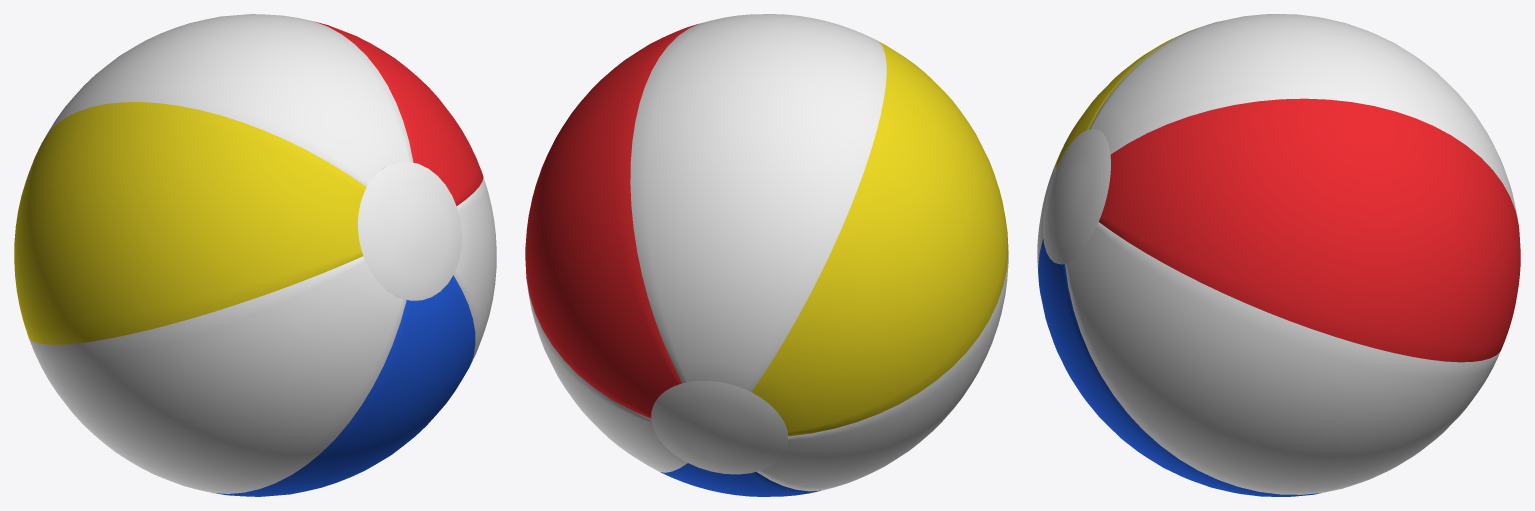
Rendered from DM_beach_ball.fbx.
3 renders of one model, left to right at view 1: azimuth 30°, elevation 25°; view 2: azimuth 150°, elevation 25°; view 3: azimuth 270°, elevation 25°, orthographic.
Parts seen in each view (by area): view 1: DM_beach_ball; view 2: DM_beach_ball; view 3: DM_beach_ball.
Part boxes in pixels (x1,y1,x2,y2): DM_beach_ball: [14, 14, 496, 496]; DM_beach_ball: [525, 14, 1008, 496]; DM_beach_ball: [1037, 14, 1520, 496].
Size of the model in its own units: 0.2421 by 0.242 by 0.2422.
